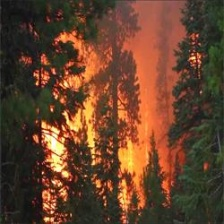fire: (38, 39, 174, 219)
